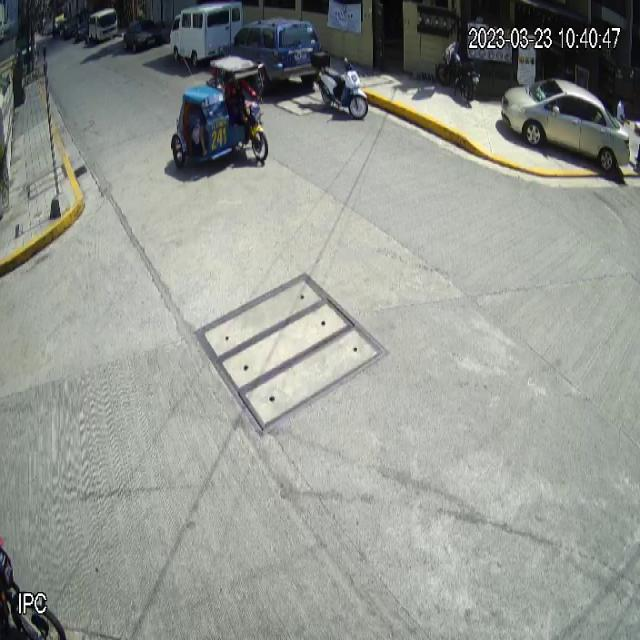Car: (501, 75, 632, 172), (216, 16, 323, 96)
Motorcycle: (311, 48, 369, 120)
Tricycle: (170, 52, 269, 171)
Van: (169, 0, 242, 69)
